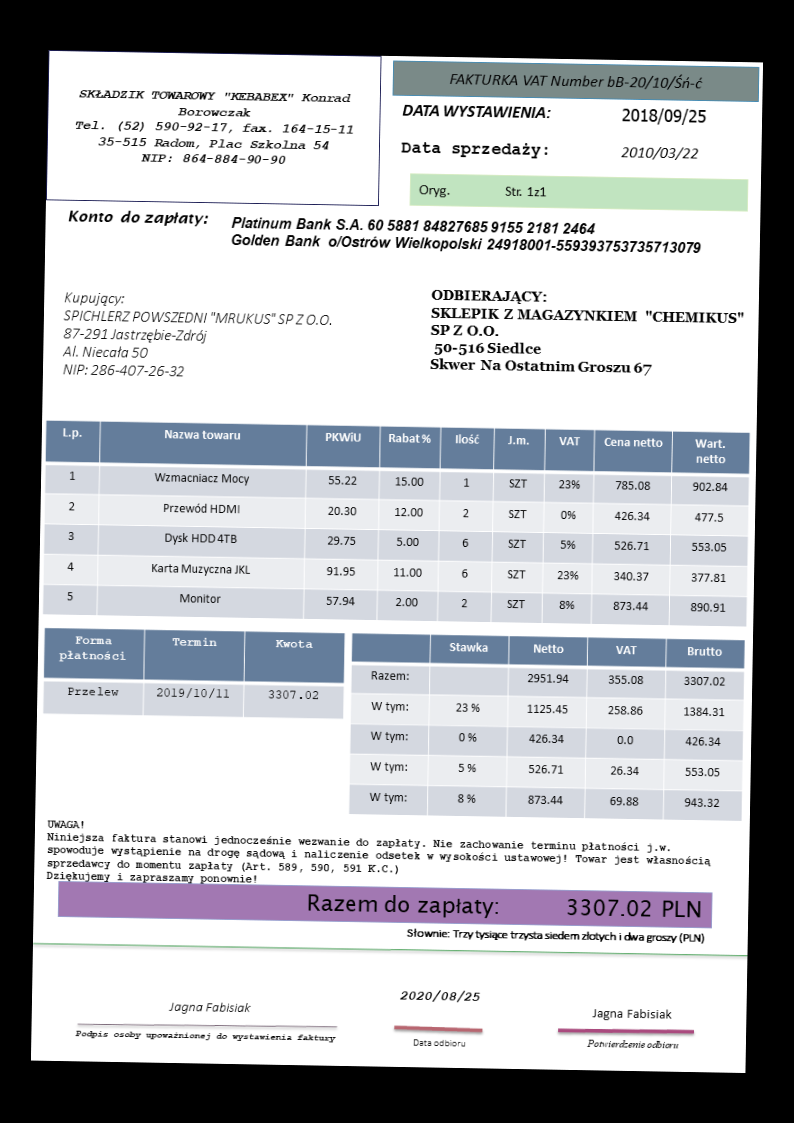Table: (41, 418, 751, 627), (348, 632, 746, 823), (41, 625, 346, 721)
TextBox: (44, 818, 712, 895), (428, 287, 745, 378), (59, 288, 333, 382), (74, 86, 357, 169), (228, 212, 703, 257), (304, 889, 703, 925), (404, 925, 707, 947), (446, 70, 706, 93), (73, 1026, 337, 1045), (399, 137, 551, 161), (64, 207, 210, 230), (399, 101, 554, 122), (416, 182, 549, 202), (619, 104, 708, 126), (585, 1036, 680, 1052), (590, 1005, 672, 1022), (619, 145, 700, 161), (167, 1000, 252, 1015), (398, 989, 482, 1004), (410, 1036, 468, 1050)
